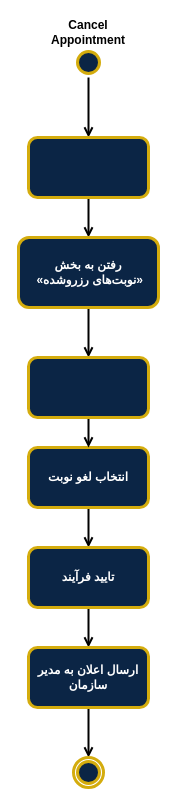
This 177x806 diagram has some shape labels left out. Each missing label, with the box of its shape:
انتخاب یک نوبت از لیست رزروشده‌ها: (26, 356, 150, 418)
ورود به «پروفایل من»: (26, 136, 150, 198)
